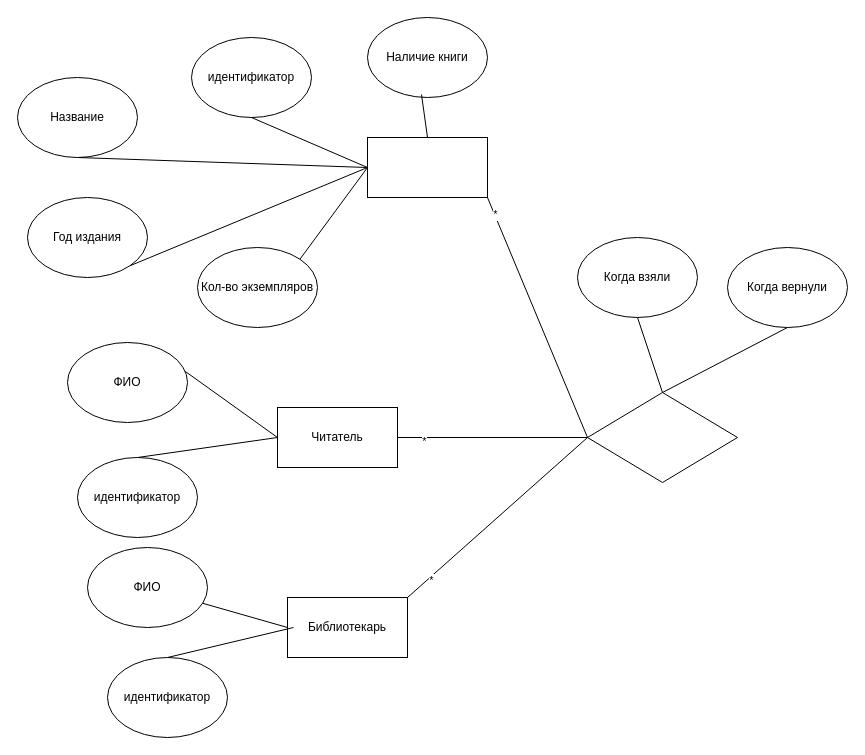
Image size: 865x755. Some labels were removed from this diagram. Each missing label, with the box of its shape:
Книга: (366, 136, 488, 198)
Книги которые читают: (586, 392, 738, 482)
